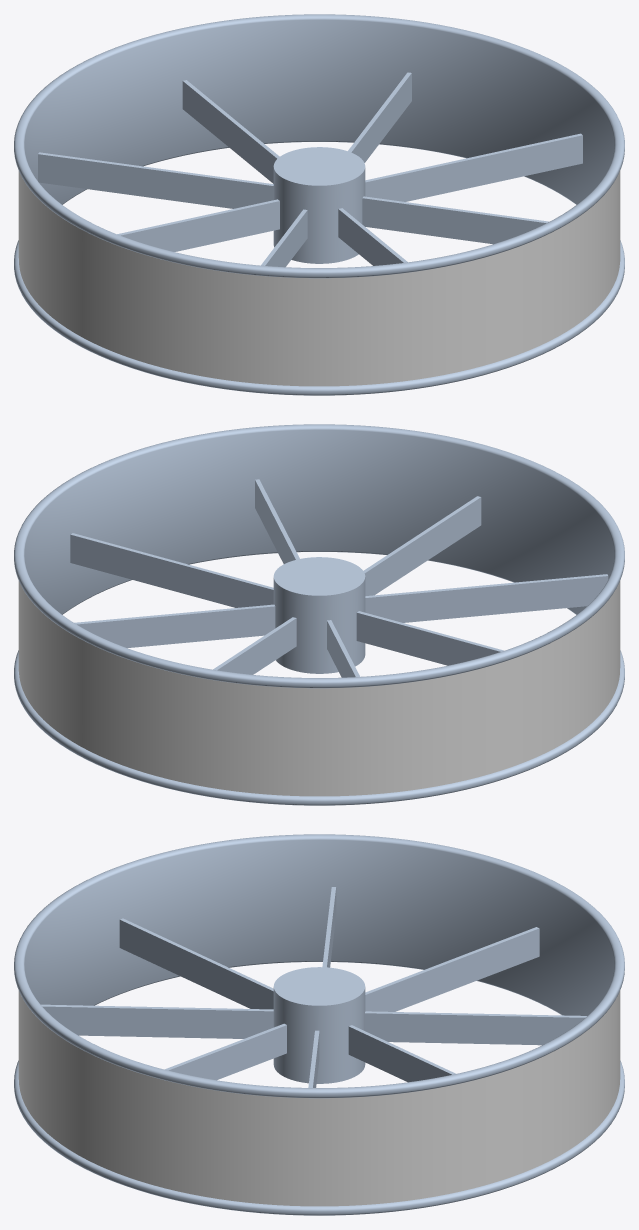
The model's file is ROTOR.glb.
3 renders of one model, top to bottom at view 1: azimuth 30°, elevation 25°; view 2: azimuth 150°, elevation 25°; view 3: azimuth 270°, elevation 25°, orthographic.
Parts seen in each view (by area): view 1: ROTOR; view 2: ROTOR; view 3: ROTOR.
Boxes of the visible parts, bbox=[...] form: ROTOR: bbox=[14, 14, 624, 395]; ROTOR: bbox=[14, 424, 624, 805]; ROTOR: bbox=[14, 834, 624, 1215].
Bounding box in the file's own units: 16.46 × 3.73 × 16.46.
